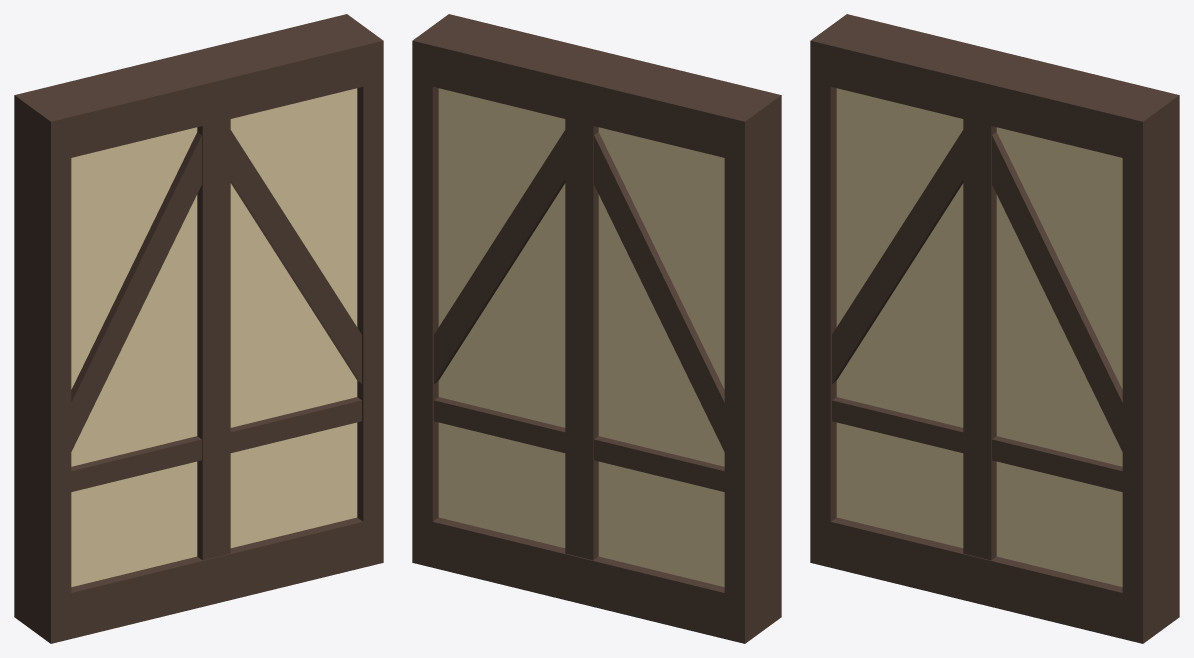
The model's file is fork_braced_bay.glb.
3 views of the same model, side by side, from view 1: azimuth 30°, elevation 25°; view 2: azimuth 150°, elevation 25°; view 3: azimuth 330°, elevation 25° (orthographic).
Parts seen in each view (by area): view 1: Fork-braced bay; view 2: Fork-braced bay; view 3: Fork-braced bay.
Boxes of the visible parts, box(x1,y1,x2,y2) form: Fork-braced bay: box(14, 14, 383, 643); Fork-braced bay: box(412, 14, 781, 643); Fork-braced bay: box(810, 14, 1179, 643).
Size of the model in its own units: 1 by 1.5 by 0.19.
